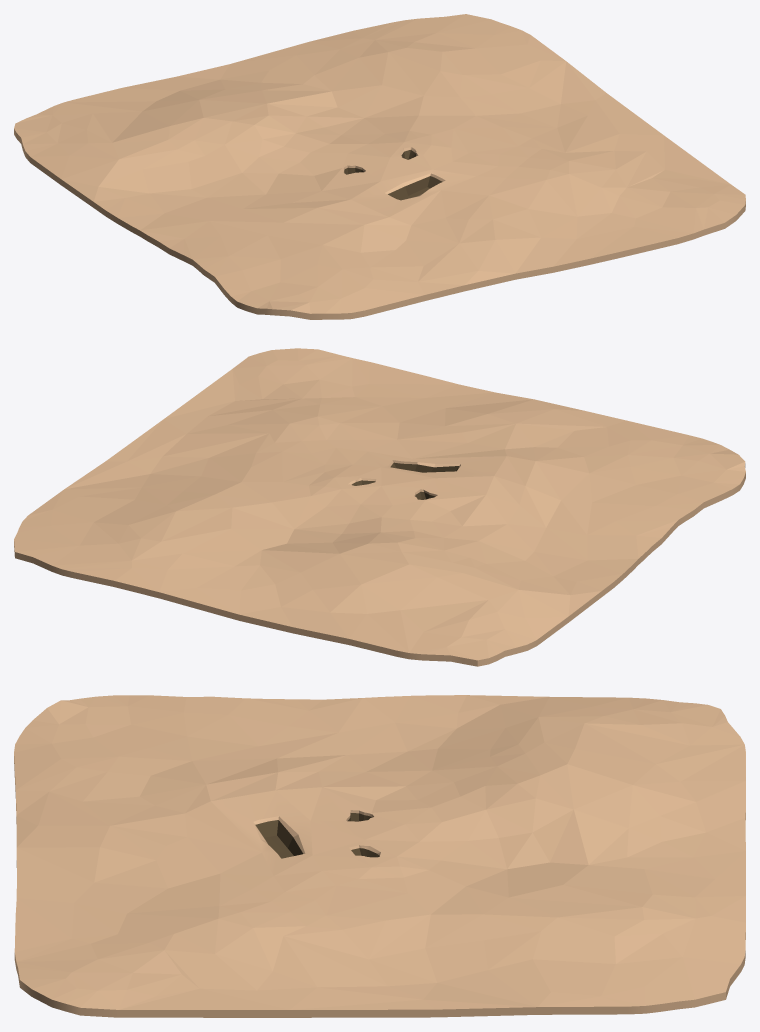
Rendered from Map01_with_holes.fbx.
3 views of the same model, one above another, from view 1: azimuth 30°, elevation 25°; view 2: azimuth 150°, elevation 25°; view 3: azimuth 270°, elevation 25° (orthographic). The views are drawn at different scales.
Parts seen in each view (by area): view 1: polySurface3; view 2: polySurface3; view 3: polySurface3.
Part boxes in pixels (x1=…): polySurface3: x1=14, y1=14, x2=745, y2=319; polySurface3: x1=14, y1=348, x2=745, y2=666; polySurface3: x1=14, y1=695, x2=745, y2=1017.
Size of the model in its own units: 1.77 by 0.0993 by 1.77.
